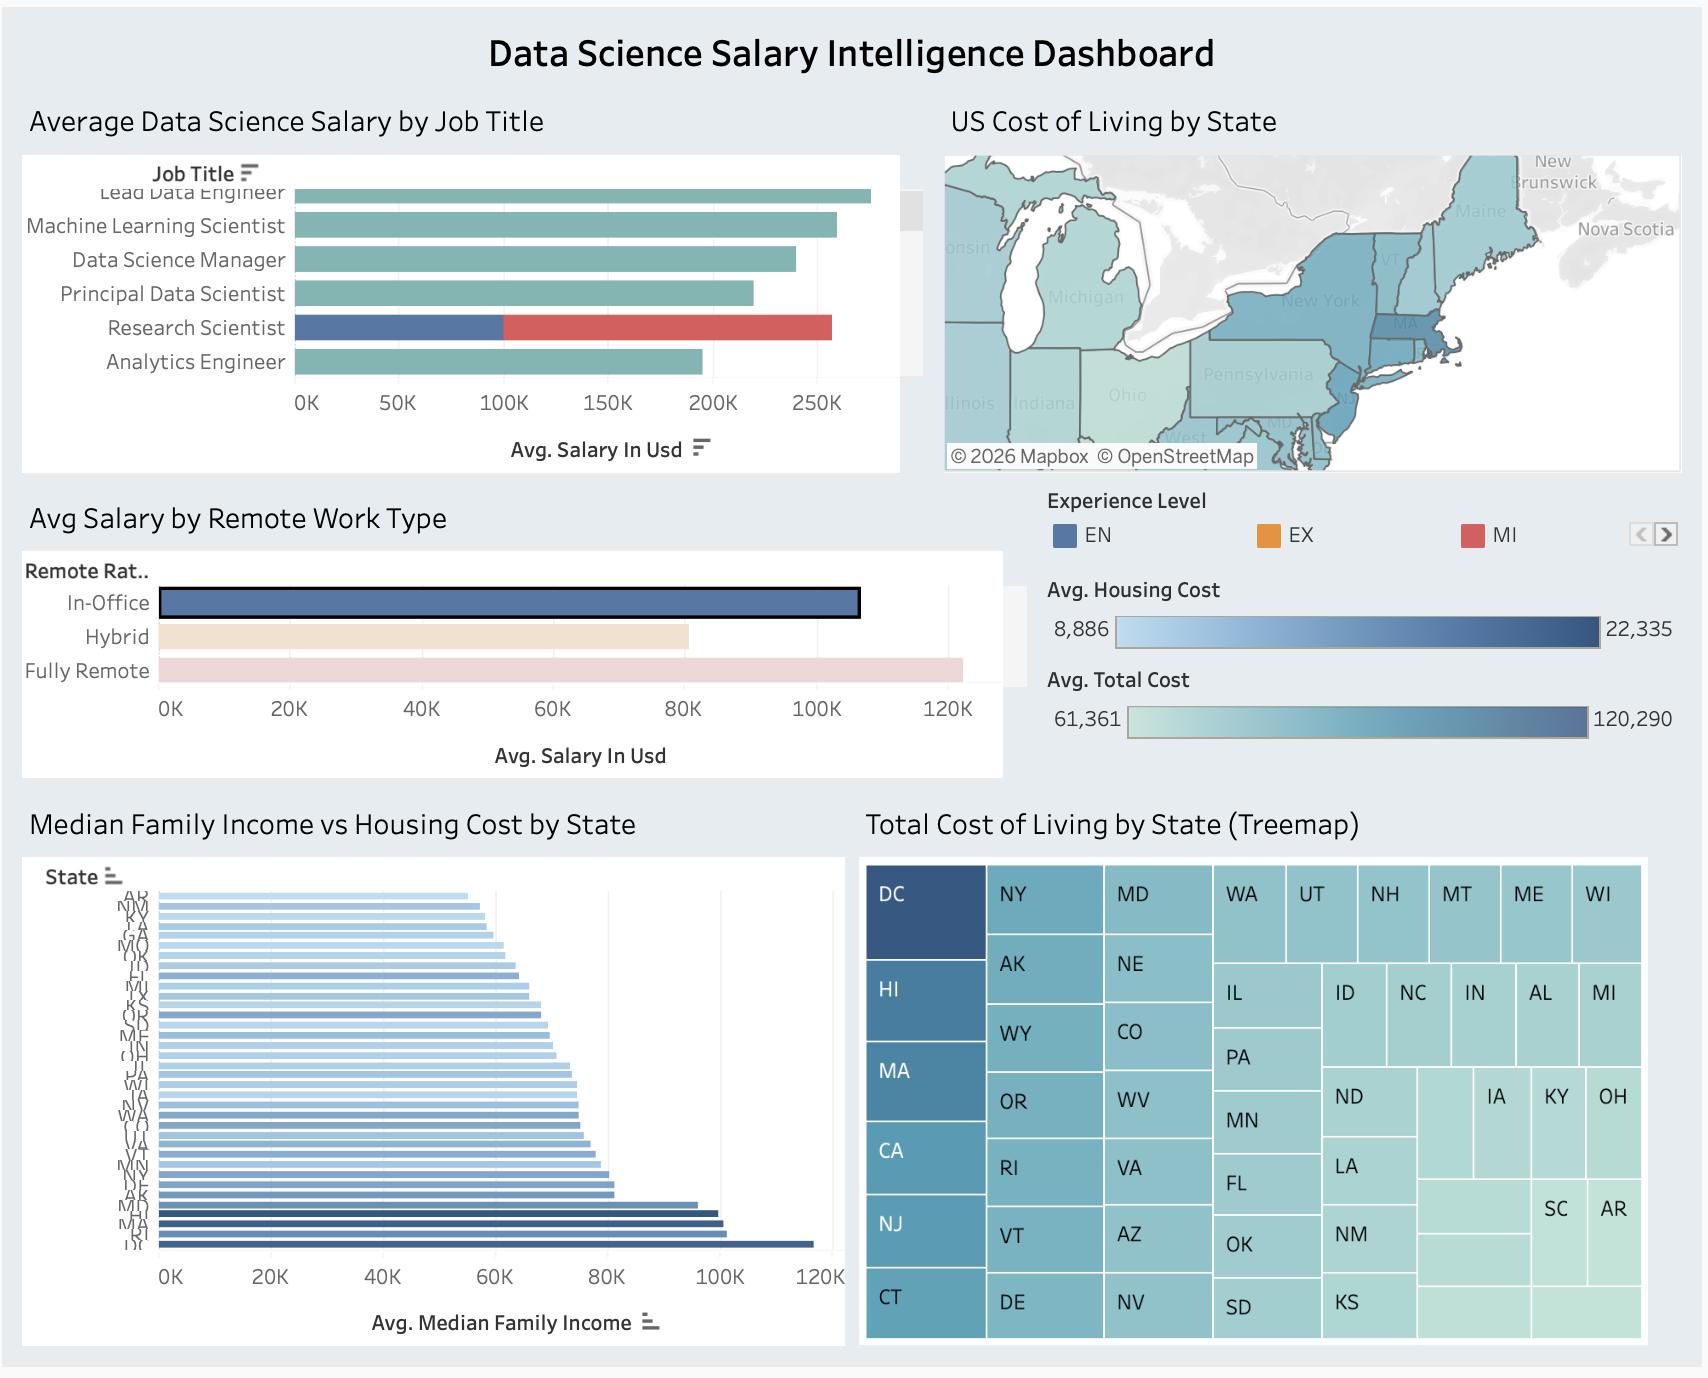

What the dashboard file says about the page in this screenshot:
{"tool":"tableau","page":{"name":"Dashboard 1","canvas":[1000,800],"ordinal":0},"visuals":[{"type":"title","box":[8,8,984,37]},{"type":"worksheet","title":"Sheet 1","mark":"Automatic","rows":["job_title"],"cols":["salary_in_usd"],"box":[8,45,542,232.5]},{"type":"worksheet","title":"Sheet 3","mark":"Multipolygon","box":[550,45,442,232.5]},{"type":"worksheet","title":"Sheet 2","mark":"Automatic","rows":["remote_ratio"],"cols":["salary_in_usd"],"box":[8,277.5,603,180.5]},{"type":"legend","title":"Sheet 1","param":"[federated.0g2a7mi1byt7da112euq913ib4d3].[none:experience_level:nk]","box":[611,277.5,381,52.8]},{"type":"legend","title":"Sheet 4","param":"[federated.0l88tt51jvkg0j1echu830jcm2sm].[avg:housing_cost:qk]","box":[611,330.3,381,52.8]},{"type":"legend","title":"Sheet 3","param":"[federated.0l88tt51jvkg0j1echu830jcm2sm].[avg:total_cost:qk]","box":[611,383.2,381,52.8]},{"type":"legend","title":"Sheet 5","param":"[federated.0l88tt51jvkg0j1echu830jcm2sm].[avg:total_cost:qk]","box":[611,436,381,22]},{"type":"worksheet","title":"Sheet 4","mark":"Automatic","rows":["state"],"cols":["median_family_income"],"box":[8,458,492,334]},{"type":"worksheet","title":"Sheet 5","mark":"Automatic","box":[500,458,492,334]}]}

Visuals, with their boxes in screenshot pixels (x1, y1, x2, y2), scaled from the page's 1000x800 canvas onto the 1708x1378 screenshot:
title: [x1=14, y1=14, x2=1694, y2=78]
"Sheet 1" worksheet: [x1=14, y1=78, x2=939, y2=478]
"Sheet 3" worksheet (Multipolygon marks): [x1=939, y1=78, x2=1694, y2=478]
"Sheet 2" worksheet: [x1=14, y1=478, x2=1044, y2=789]
"Sheet 1" legend: [x1=1044, y1=478, x2=1694, y2=569]
"Sheet 4" legend: [x1=1044, y1=569, x2=1694, y2=660]
"Sheet 3" legend: [x1=1044, y1=660, x2=1694, y2=751]
"Sheet 5" legend: [x1=1044, y1=751, x2=1694, y2=789]
"Sheet 4" worksheet: [x1=14, y1=789, x2=854, y2=1364]
"Sheet 5" worksheet: [x1=854, y1=789, x2=1694, y2=1364]
